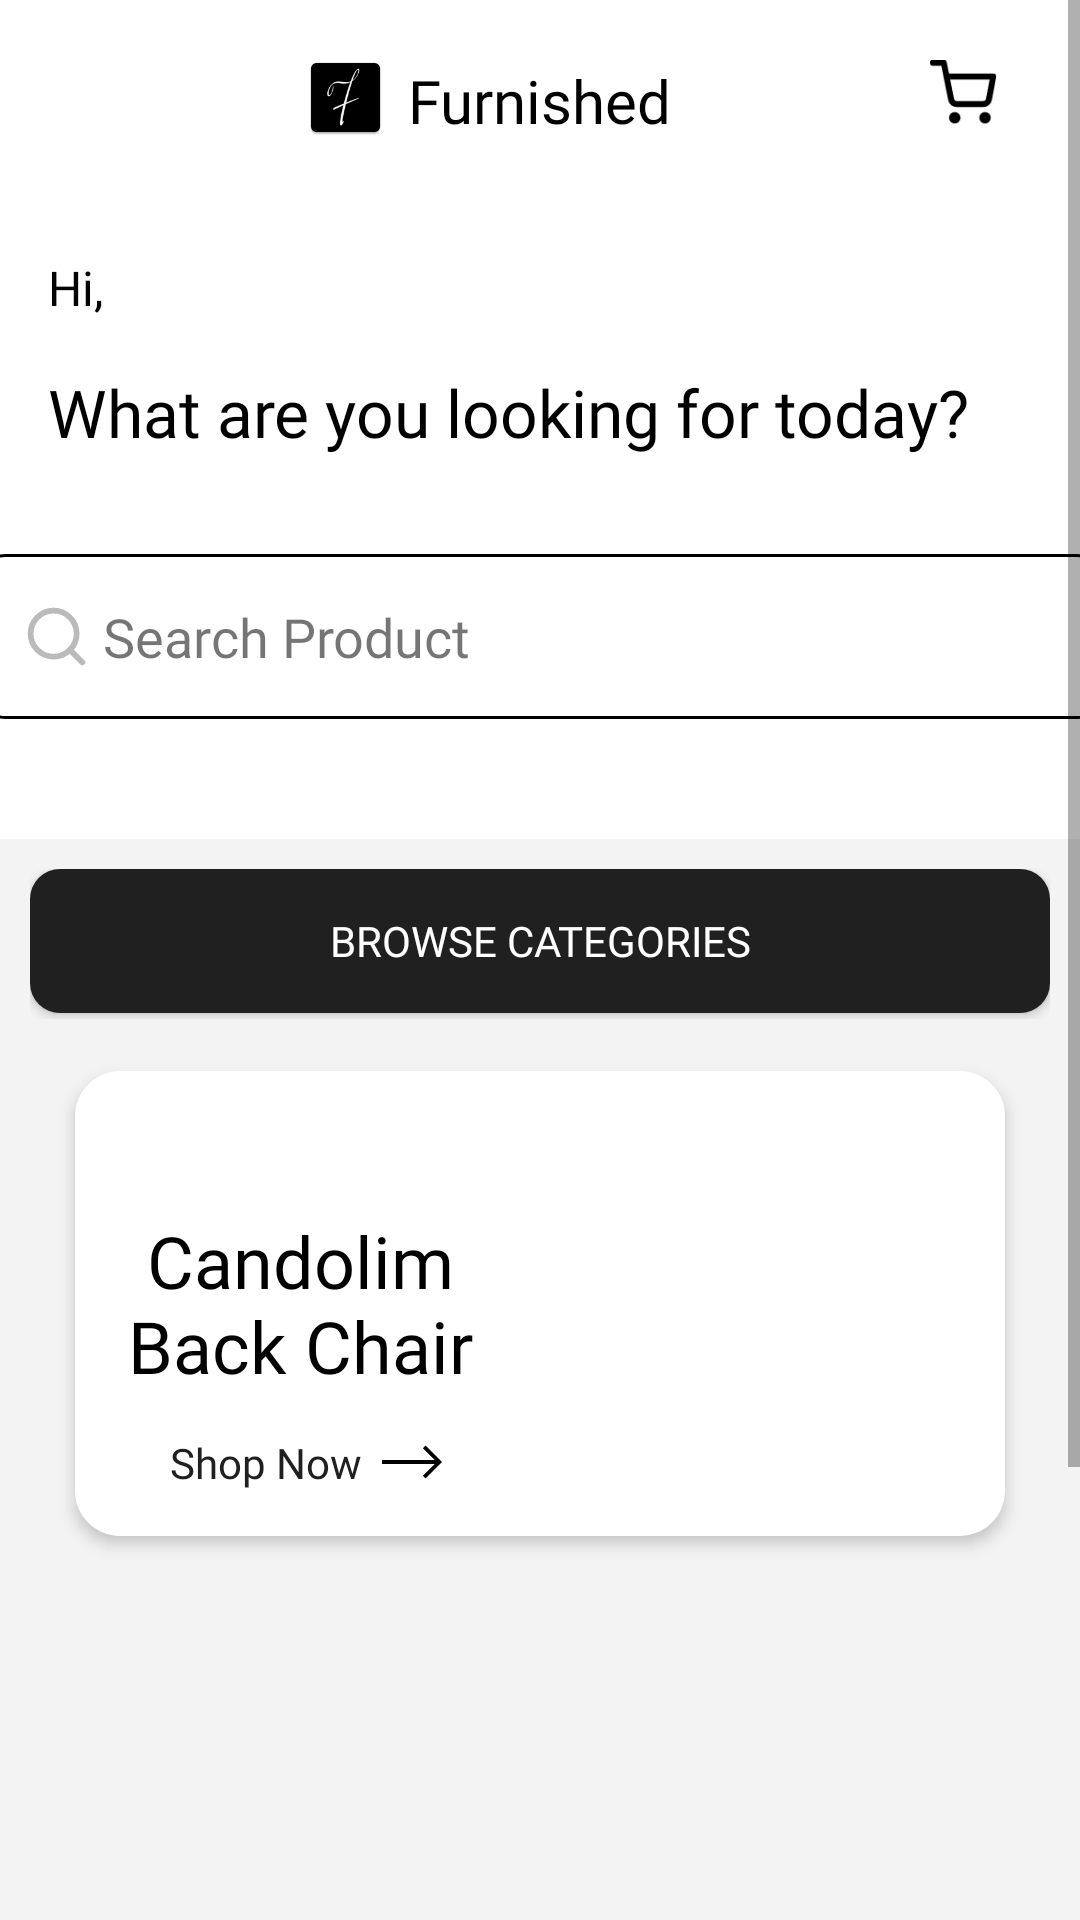

Screen size 1080×1920. Icon name, then its center in pixels as (x,y):
shopping cart: (963,92)
